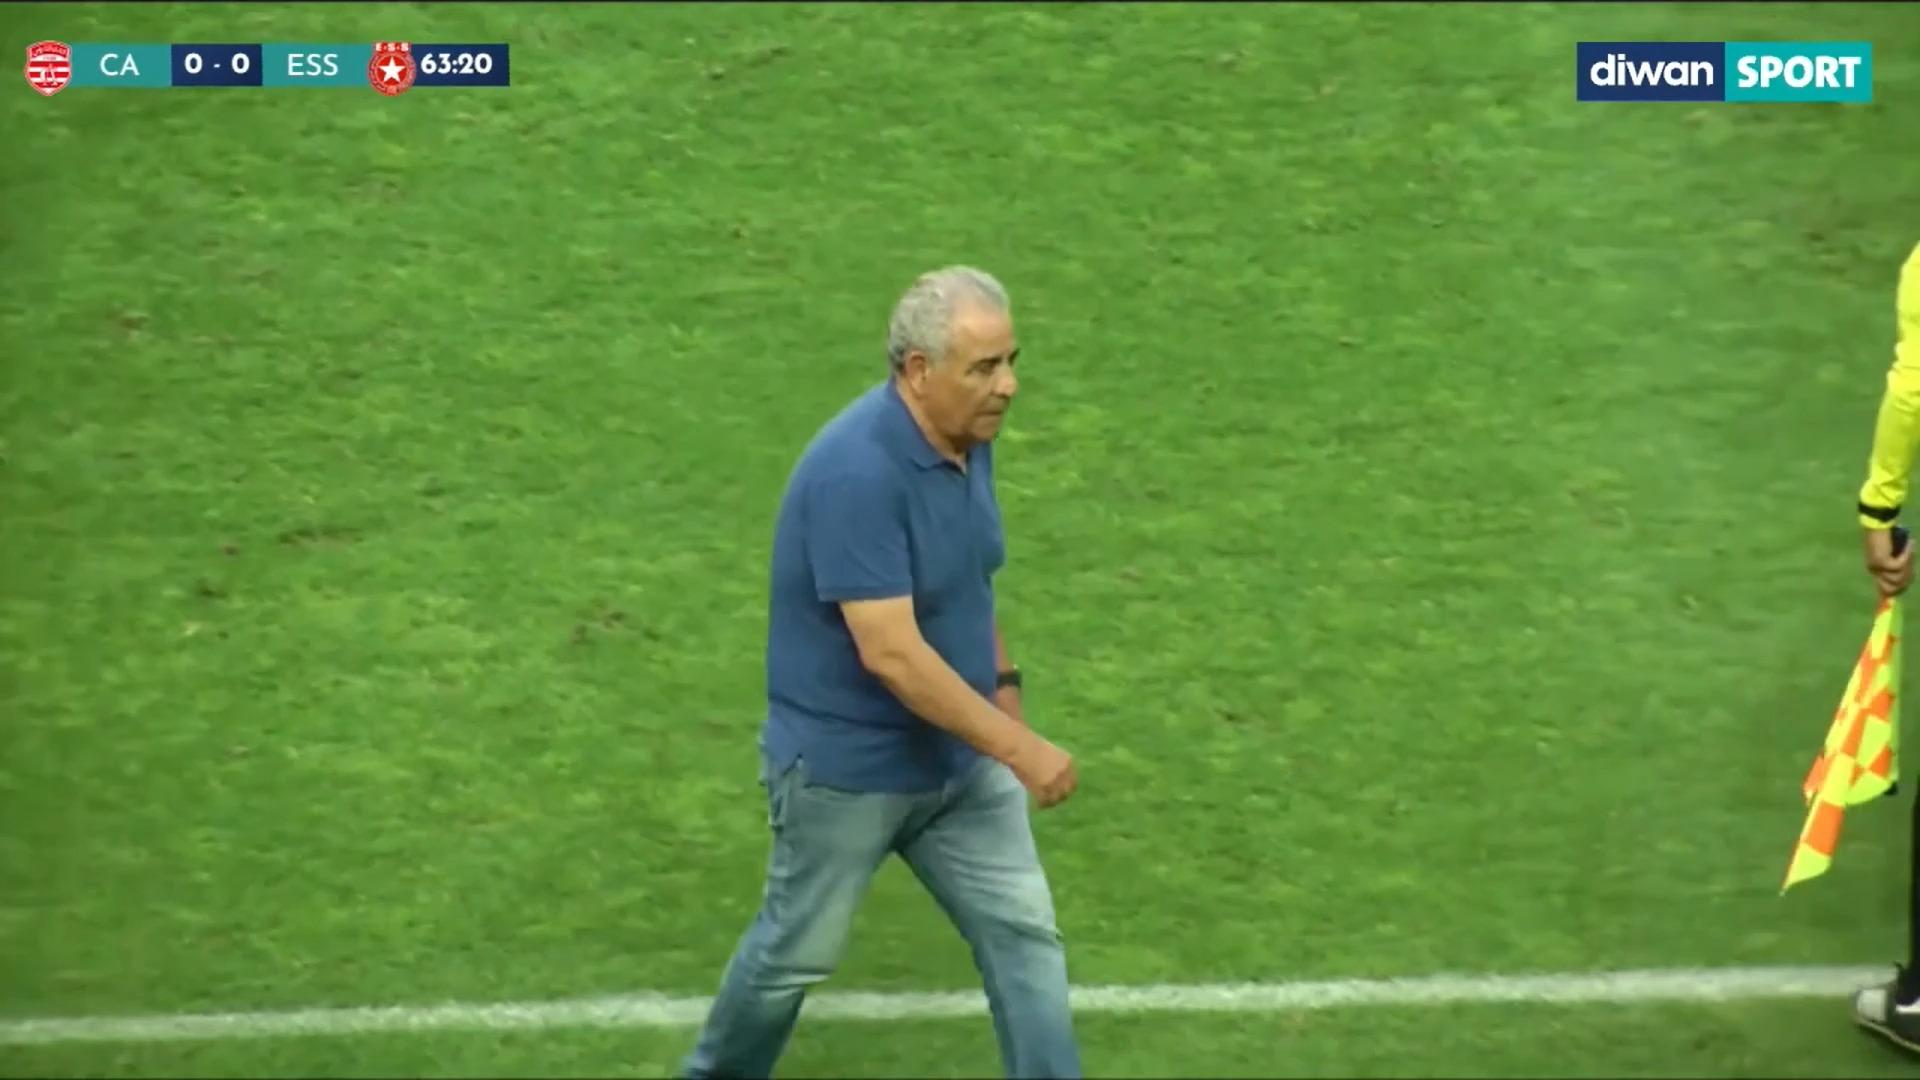referee: (1743, 156, 1920, 1058)
